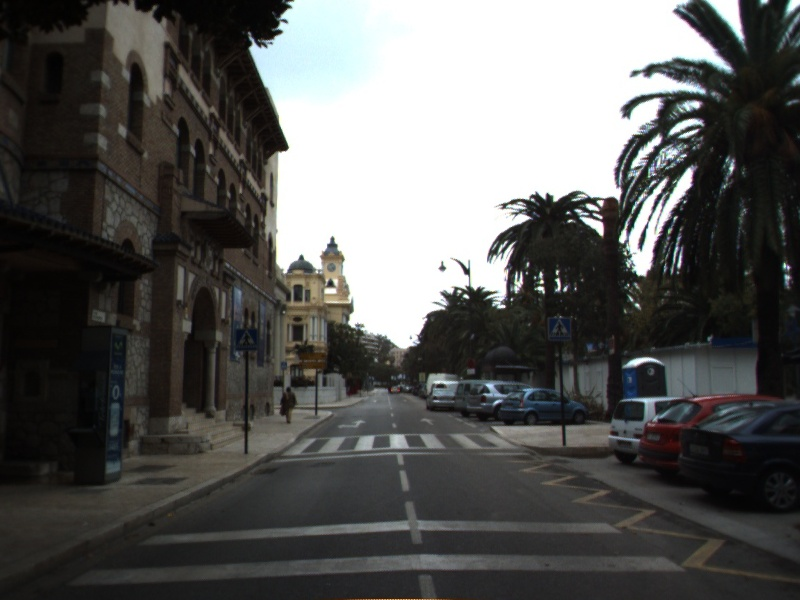STRAIGHT: (418, 416, 437, 427)
STRAIGHT_LEFT: (335, 418, 368, 430)
